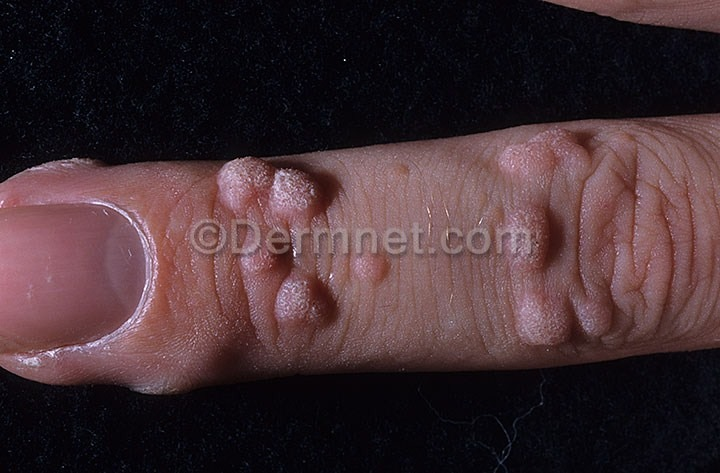Warts: (506, 282, 617, 359), (211, 154, 328, 221), (490, 118, 600, 187), (262, 263, 354, 337)
